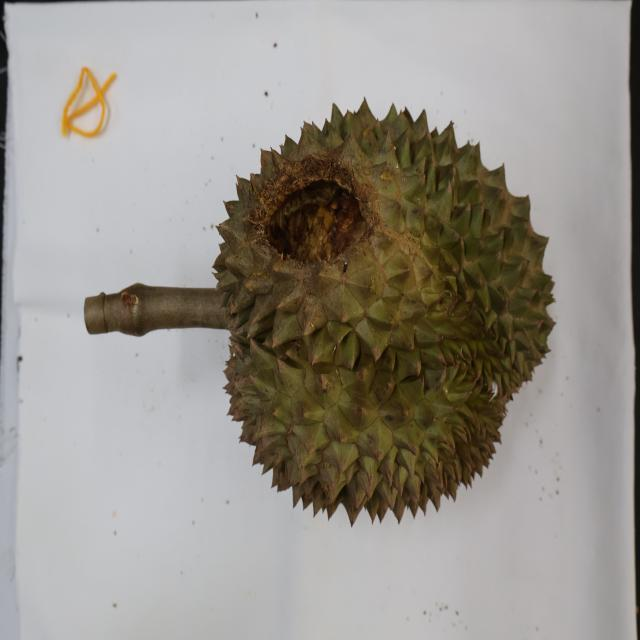defective: (212, 96, 557, 527)
